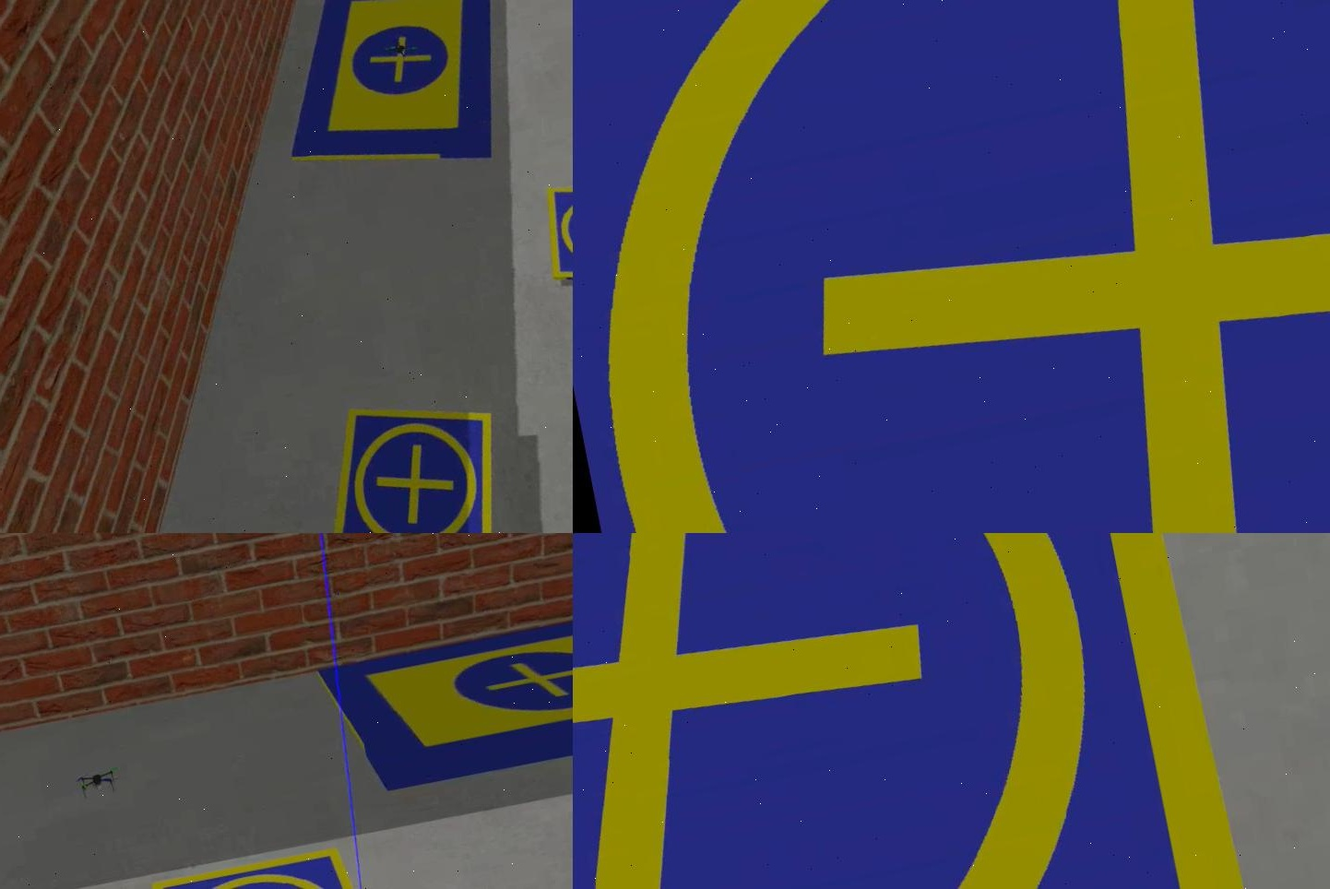large_base: (312, 568, 572, 802), (256, 1, 525, 196)
small_base: (572, 1, 1328, 534), (572, 534, 1290, 889), (300, 385, 517, 534), (114, 838, 399, 889), (537, 166, 572, 306)
